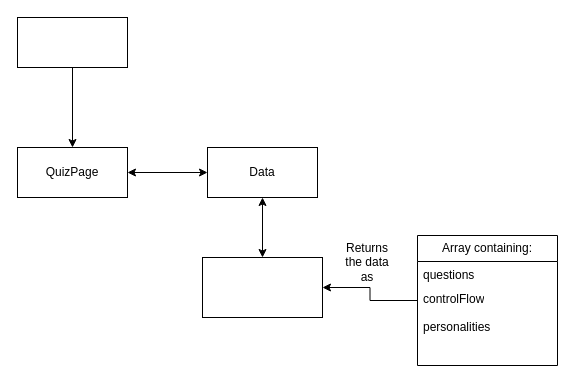
This 575x383 diagram has some shape labels left out. The centre of each missing label's shape, as x and y in pixels:
HomePage: (72,42)
ParseJson: (262,287)
